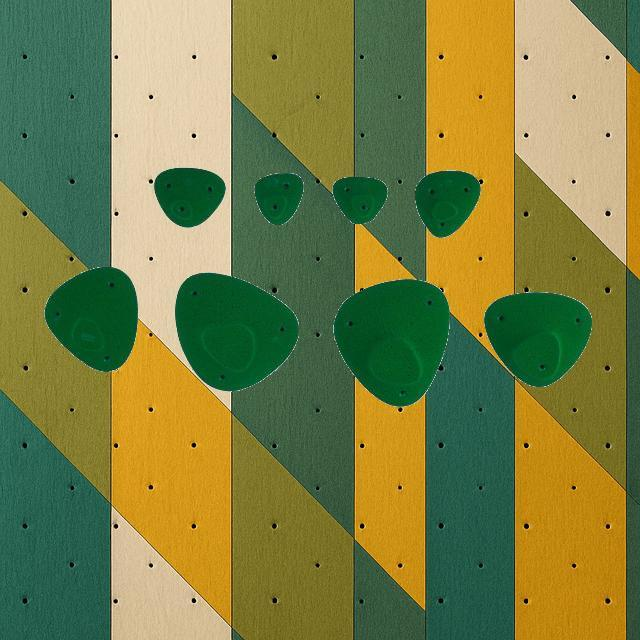Sloper: (332, 278, 451, 408), (174, 272, 298, 390), (482, 292, 592, 386), (42, 265, 138, 371), (154, 166, 228, 228), (414, 169, 481, 237), (253, 172, 304, 225), (332, 175, 388, 223)
